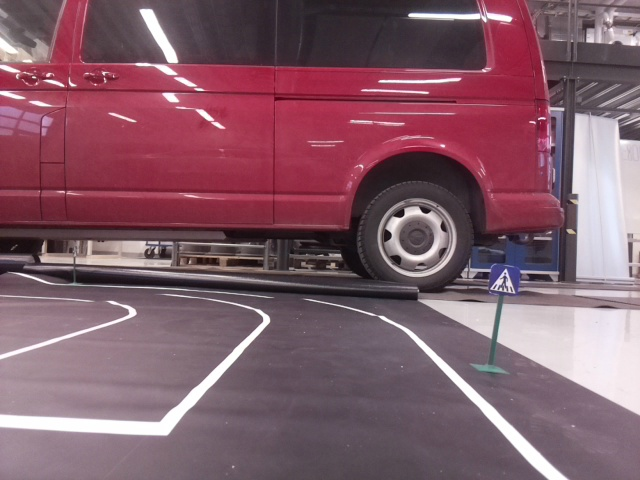Crosswalk: (490, 264, 516, 294)
